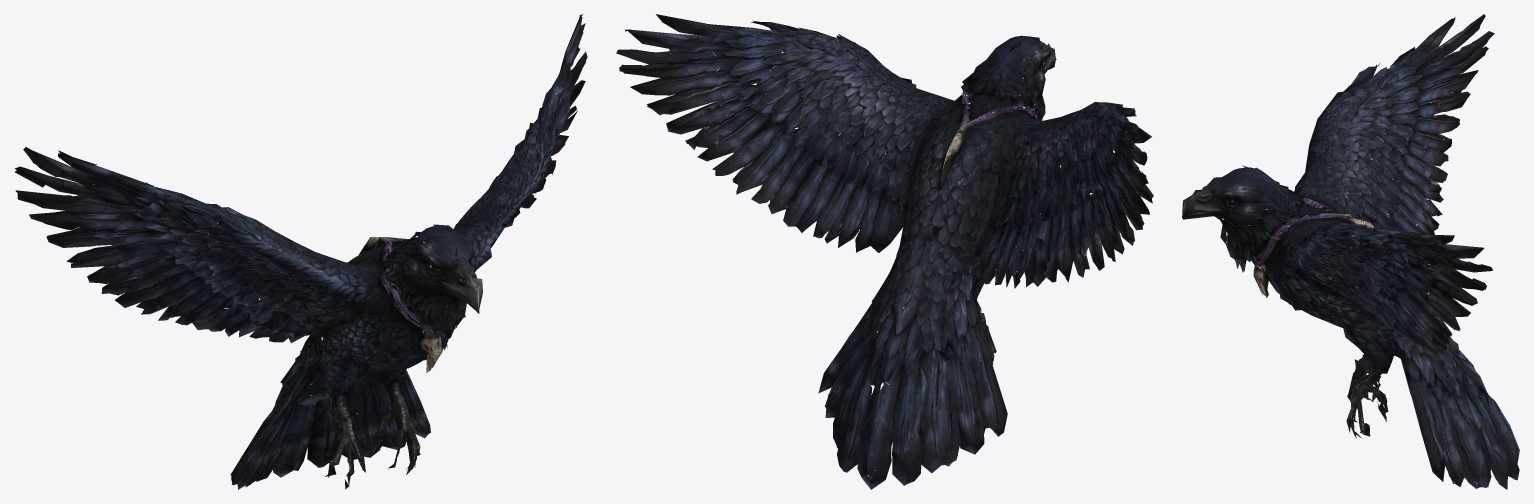
Rendered from PetRaven.fbx.
3 views of the same model, side by side, from view 1: azimuth 30°, elevation 25°; view 2: azimuth 150°, elevation 25°; view 3: azimuth 270°, elevation 25° (orthographic). The views are drawn at different scales.
Parts seen in each view (by area): view 1: PetRaven_Body; view 2: PetRaven_Body; view 3: PetRaven_Body.
Boxes of the visible parts, x1,y1,x2,y2 form: PetRaven_Body: (14, 14, 587, 489); PetRaven_Body: (616, 14, 1153, 489); PetRaven_Body: (1182, 14, 1519, 489).
Size of the model in its own units: 0.6449 by 0.45 by 0.3868.
Materials: 1 (1 with a texture image).
